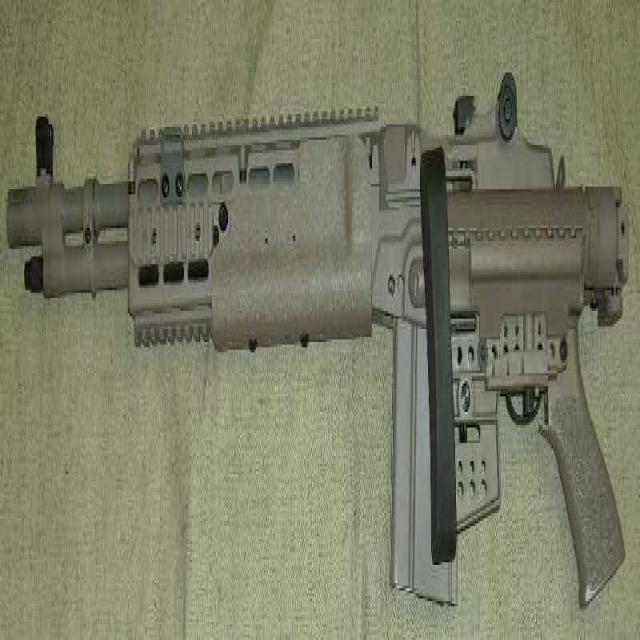heavyweapon: (5, 42, 640, 640)
